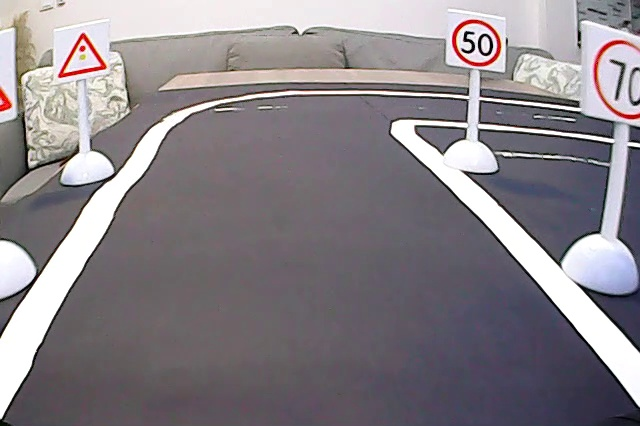red light: (54, 28, 112, 77)
speed limit 50: (447, 14, 505, 71)
speed limit 70: (589, 31, 640, 125)
